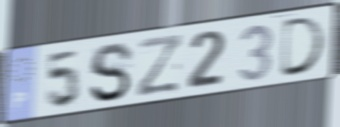2: (186, 29, 229, 92)
3: (236, 21, 275, 83)
5: (42, 47, 82, 110)
D: (278, 13, 328, 80)
S: (88, 41, 136, 105)
Z: (135, 31, 185, 100)
